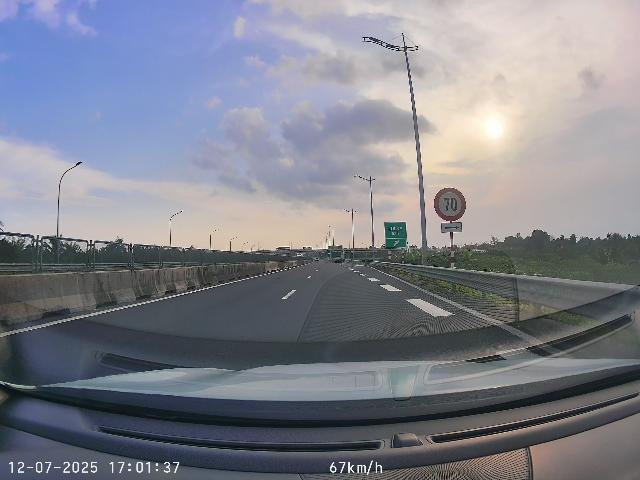127-toc-do-toi-da-70: (434, 187, 467, 221)
